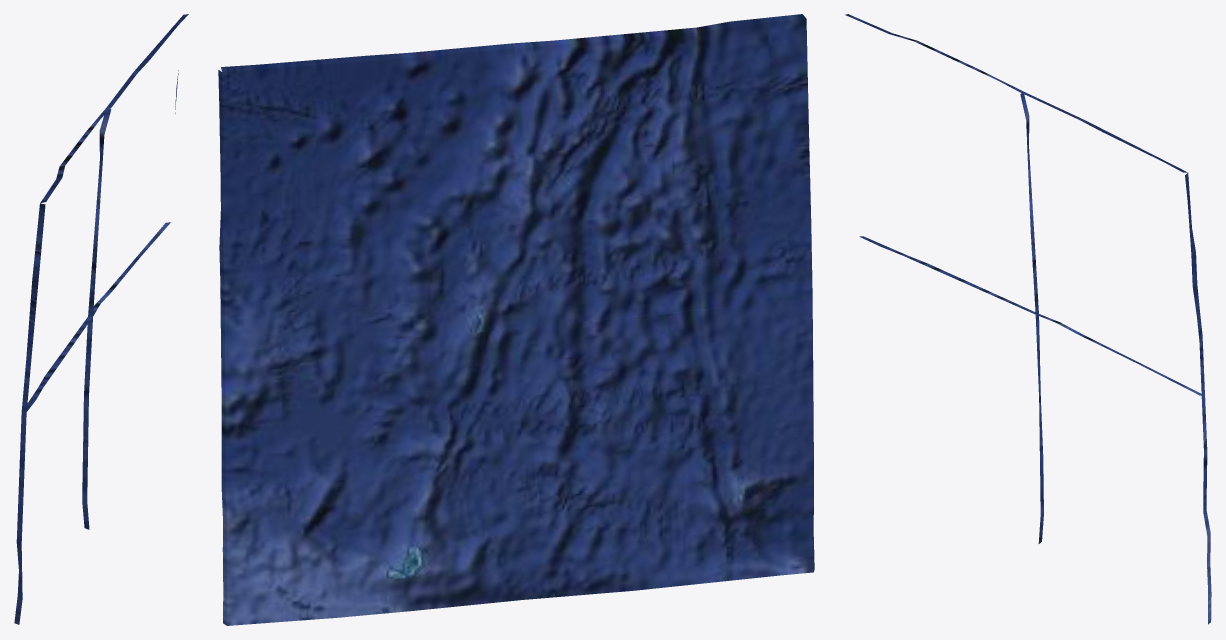
3 views of the same model, side by side, from view 1: azimuth 30°, elevation 25°; view 2: azimuth 150°, elevation 25°; view 3: azimuth 270°, elevation 25° (orthographic). The views are drawn at different scales.
Size of the model in its own units: 494303 by 628068 by 454296.
Materials: 1 (1 with a texture image).
